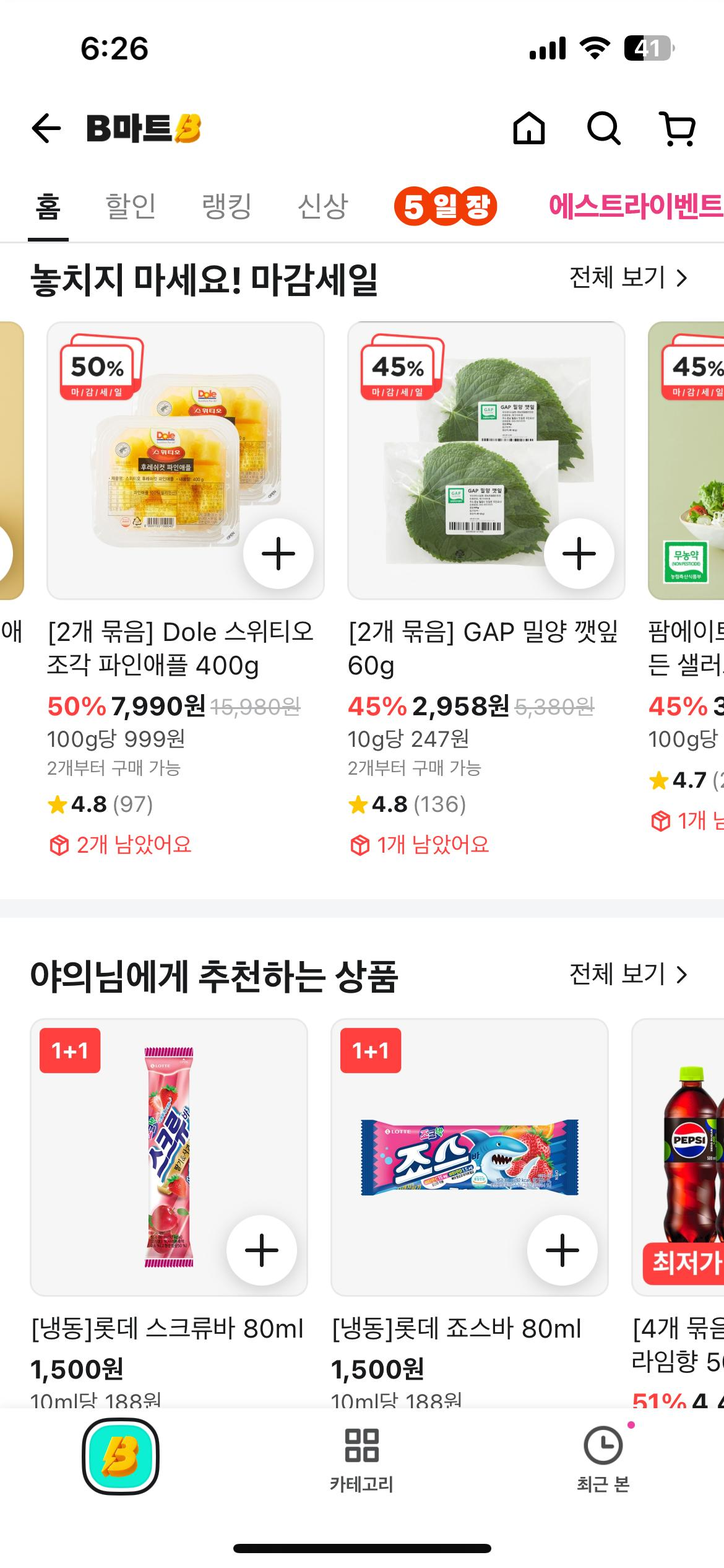button: (322, 1420, 406, 1501), (78, 1420, 163, 1499), (569, 254, 693, 303), (223, 1214, 299, 1292), (571, 1416, 639, 1495), (245, 512, 316, 586), (528, 1214, 598, 1288), (573, 958, 693, 995), (549, 522, 613, 590), (21, 182, 76, 239), (105, 180, 161, 233), (652, 105, 701, 153), (25, 109, 70, 149), (202, 190, 256, 223), (512, 103, 549, 151), (586, 105, 625, 149), (301, 192, 347, 221)
